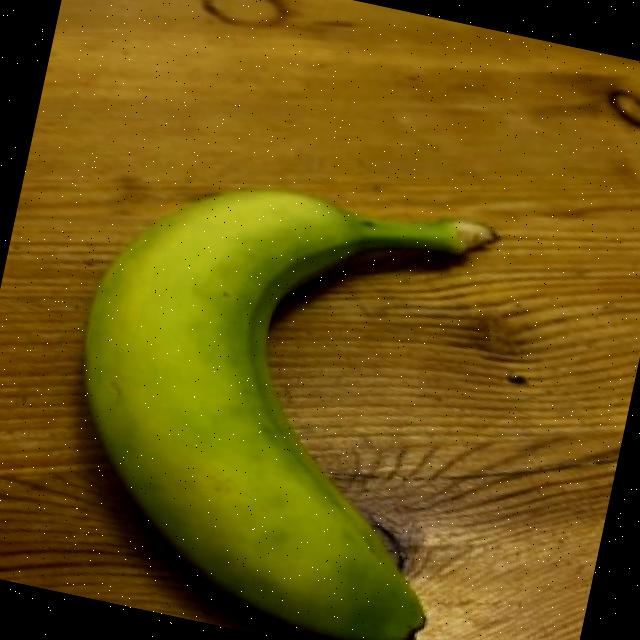Unripe: (0, 103, 589, 640)
